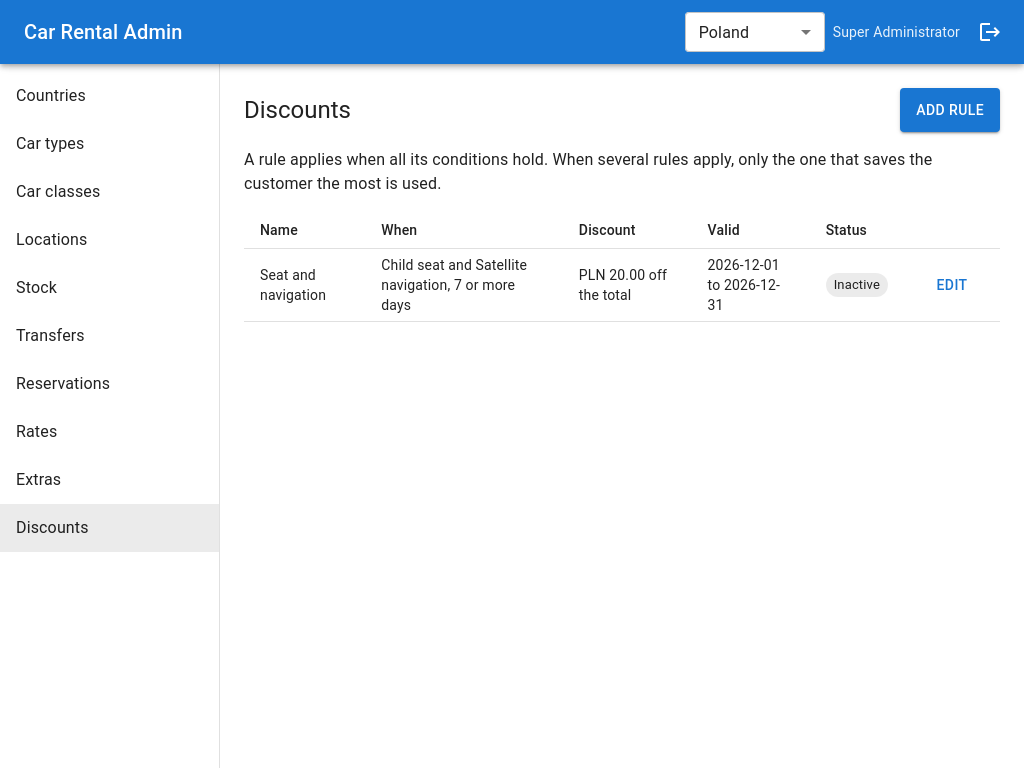
Test: Discount rules › changes a rule and shows a refusal
Click the button with aria-label "Edit Seat and navigation" at {"x": 952, "y": 285}, box [920, 263, 984, 307]
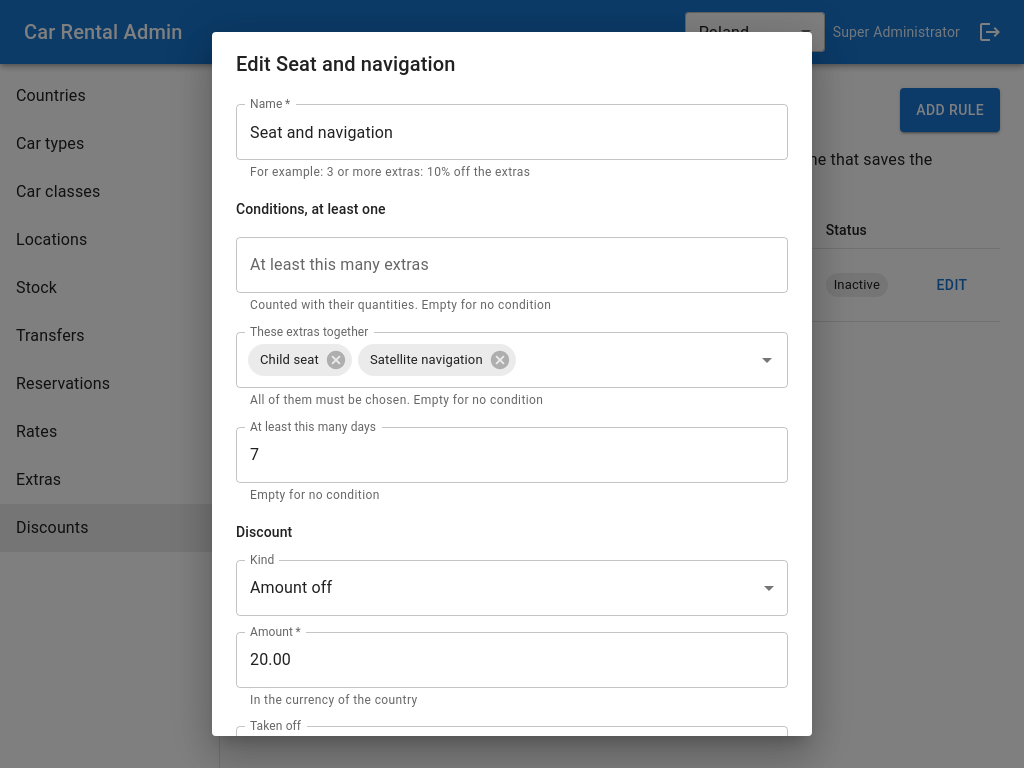
expect the field labelled "Amount *" holds "20.00": met
Replace the text in the field labelled "Amount *" with "0" at {"x": 512, "y": 660}, box [236, 632, 788, 688]
(page scrolled)
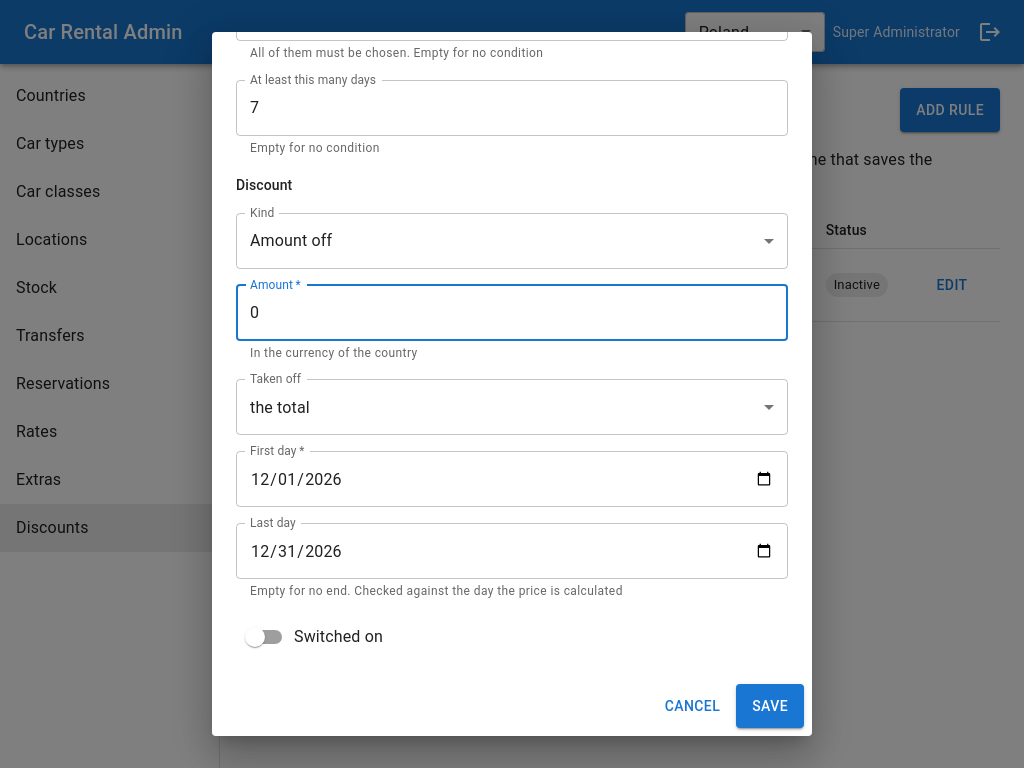
Click the button "Save" at {"x": 770, "y": 706}, box [736, 684, 804, 728]
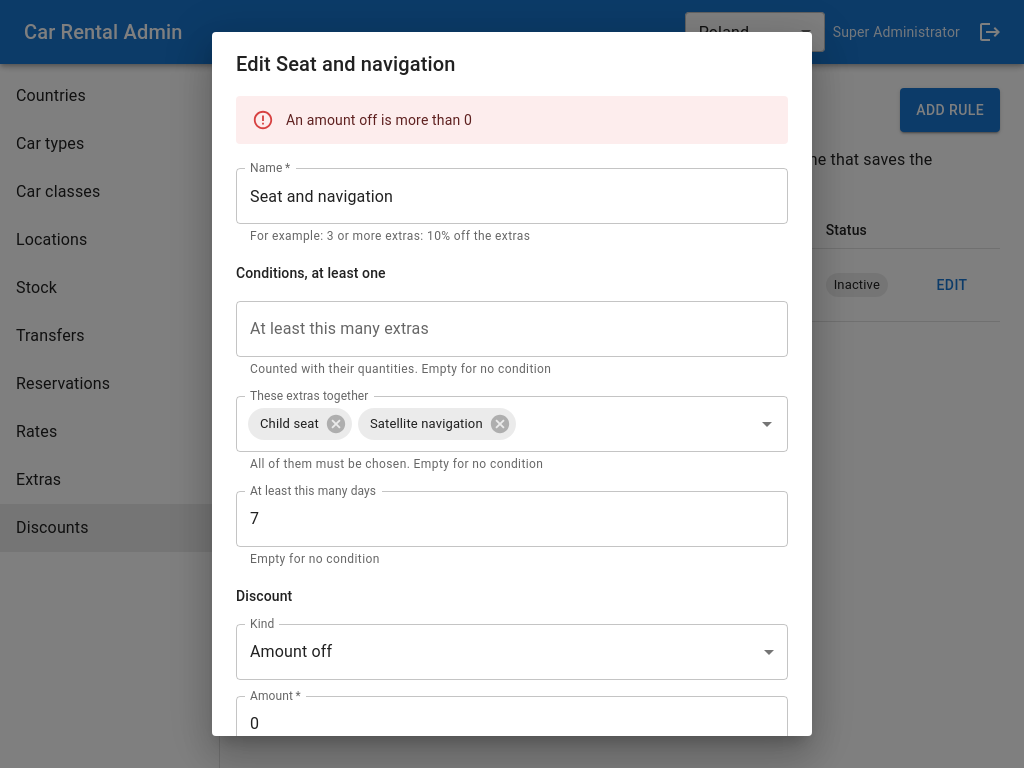
expect the text "An amount off is more than 0" is shown: met, box [286, 112, 472, 128]
